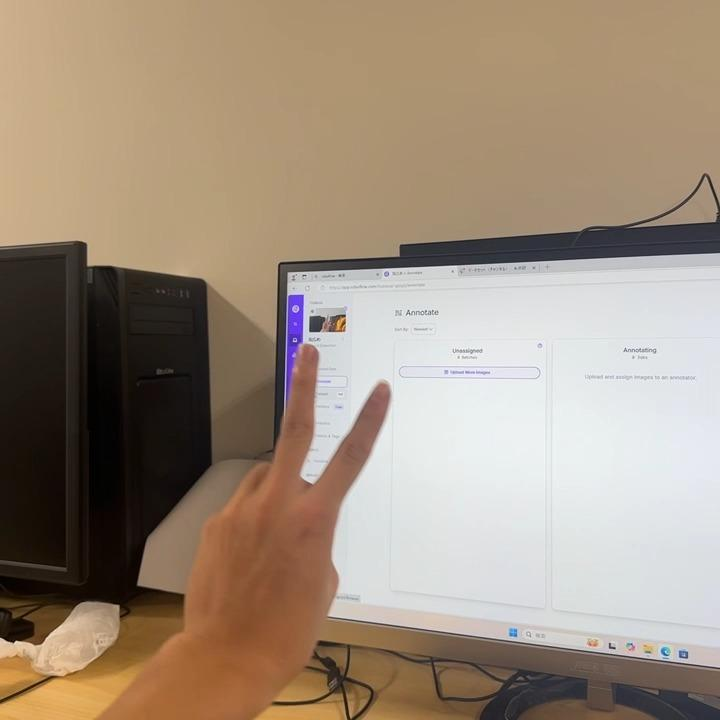without_gloves: (166, 284, 453, 687)
